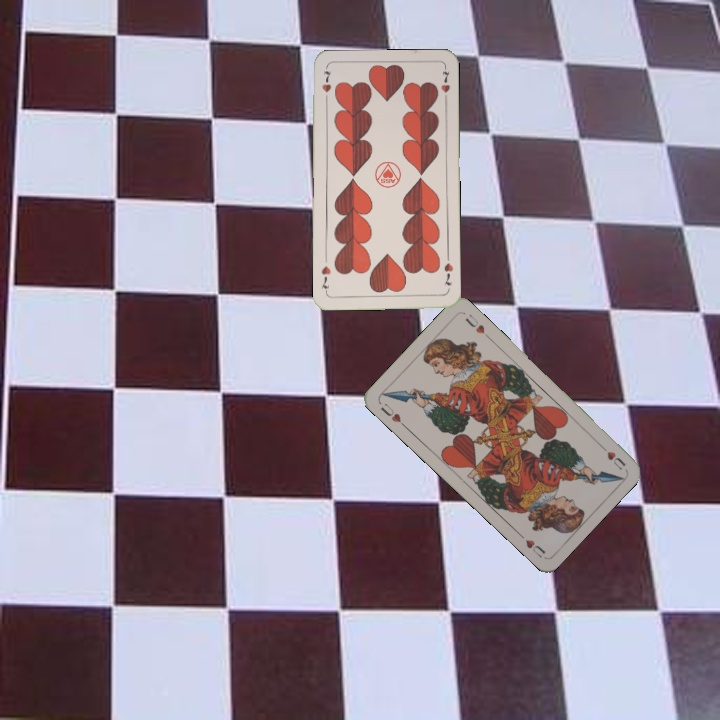H7: (318, 65, 334, 105), (440, 259, 455, 288)
HU: (596, 440, 628, 472), (376, 399, 409, 430)
